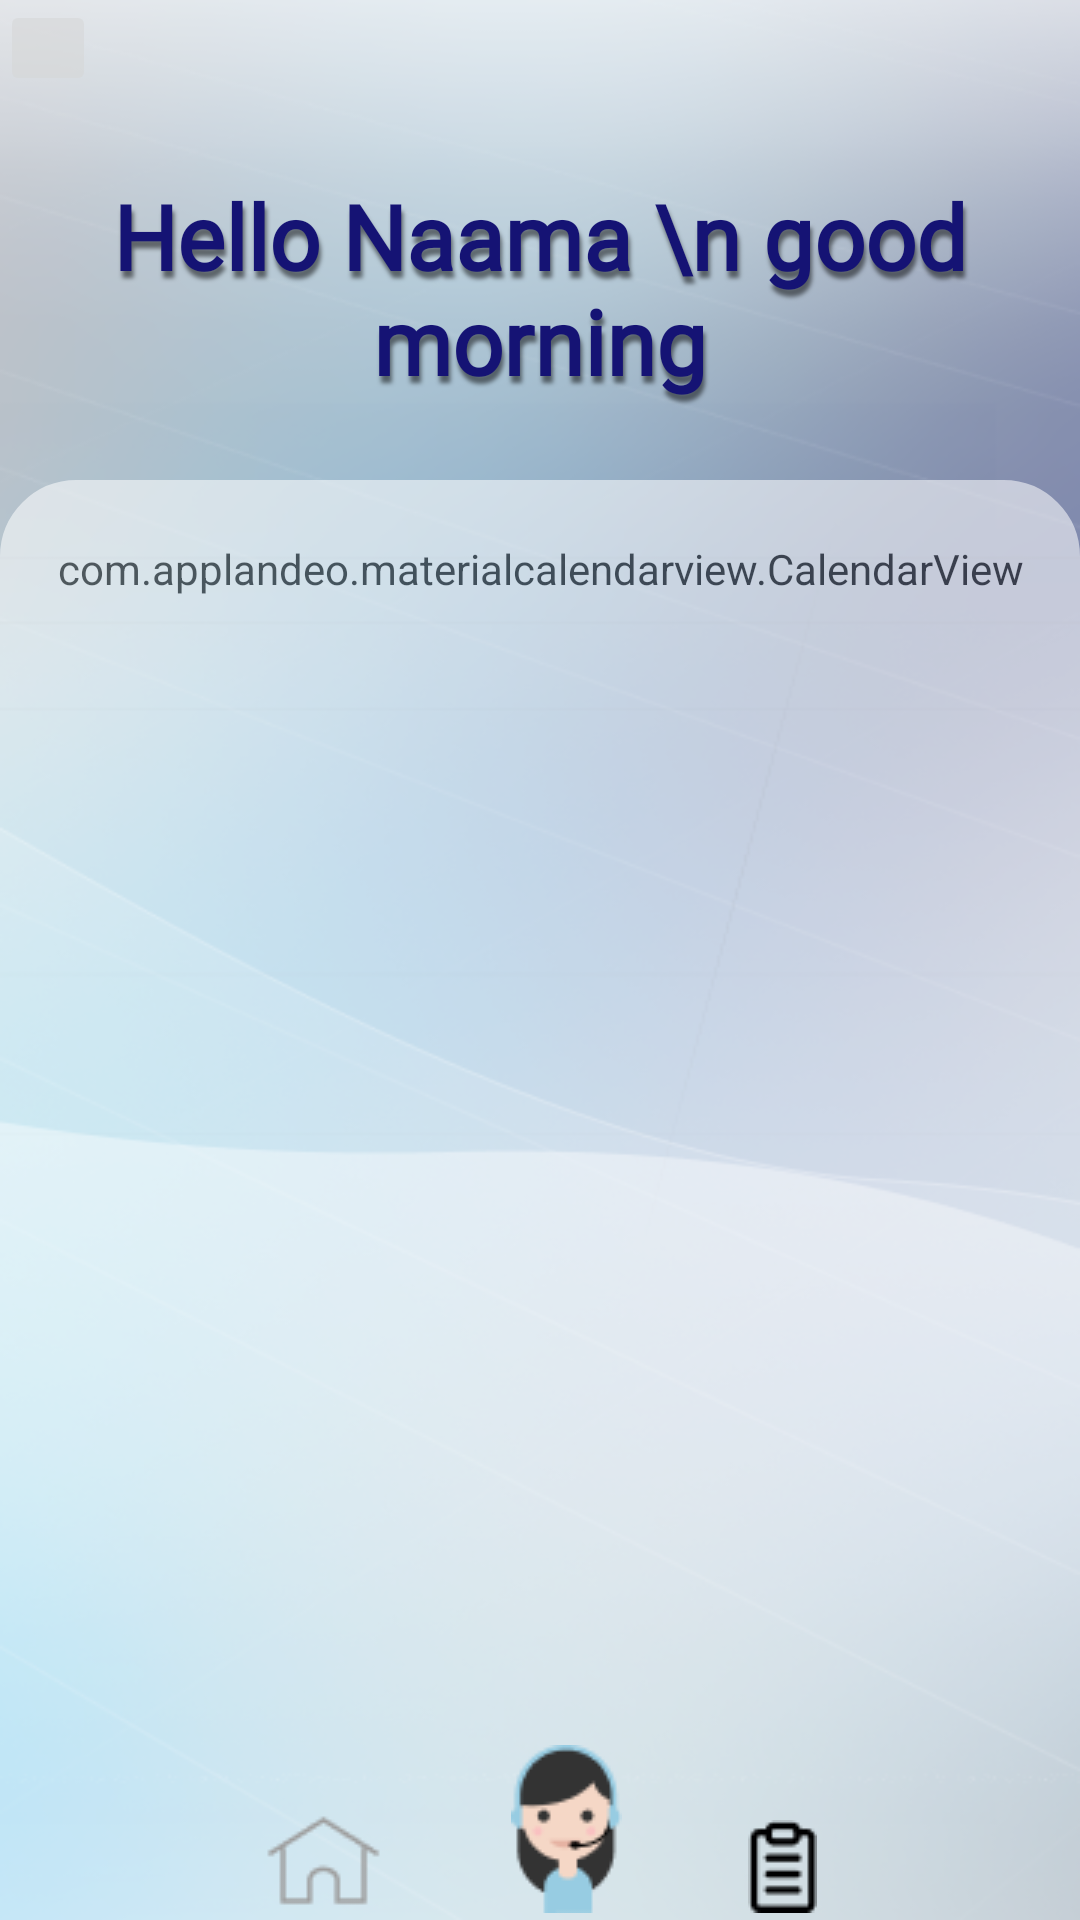

Icon bounding boxes for this 1080 × 1920 phone screenshot, format (x1, y1, x2, y2):
homebtngrey: (268, 1817, 379, 1904)
listbtn: (748, 1820, 817, 1913)
